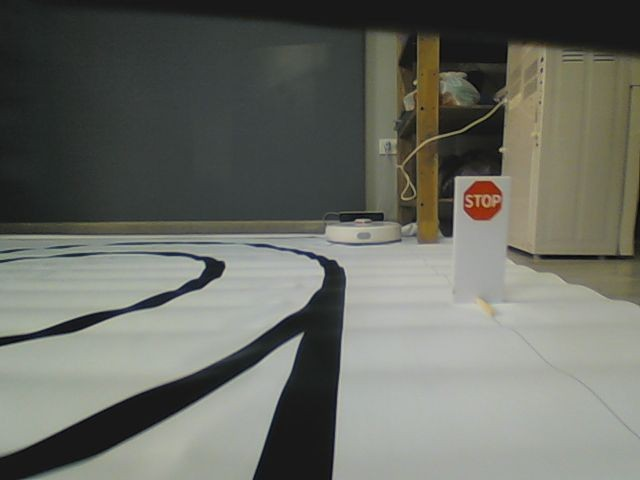Stop: (463, 179, 504, 222)
